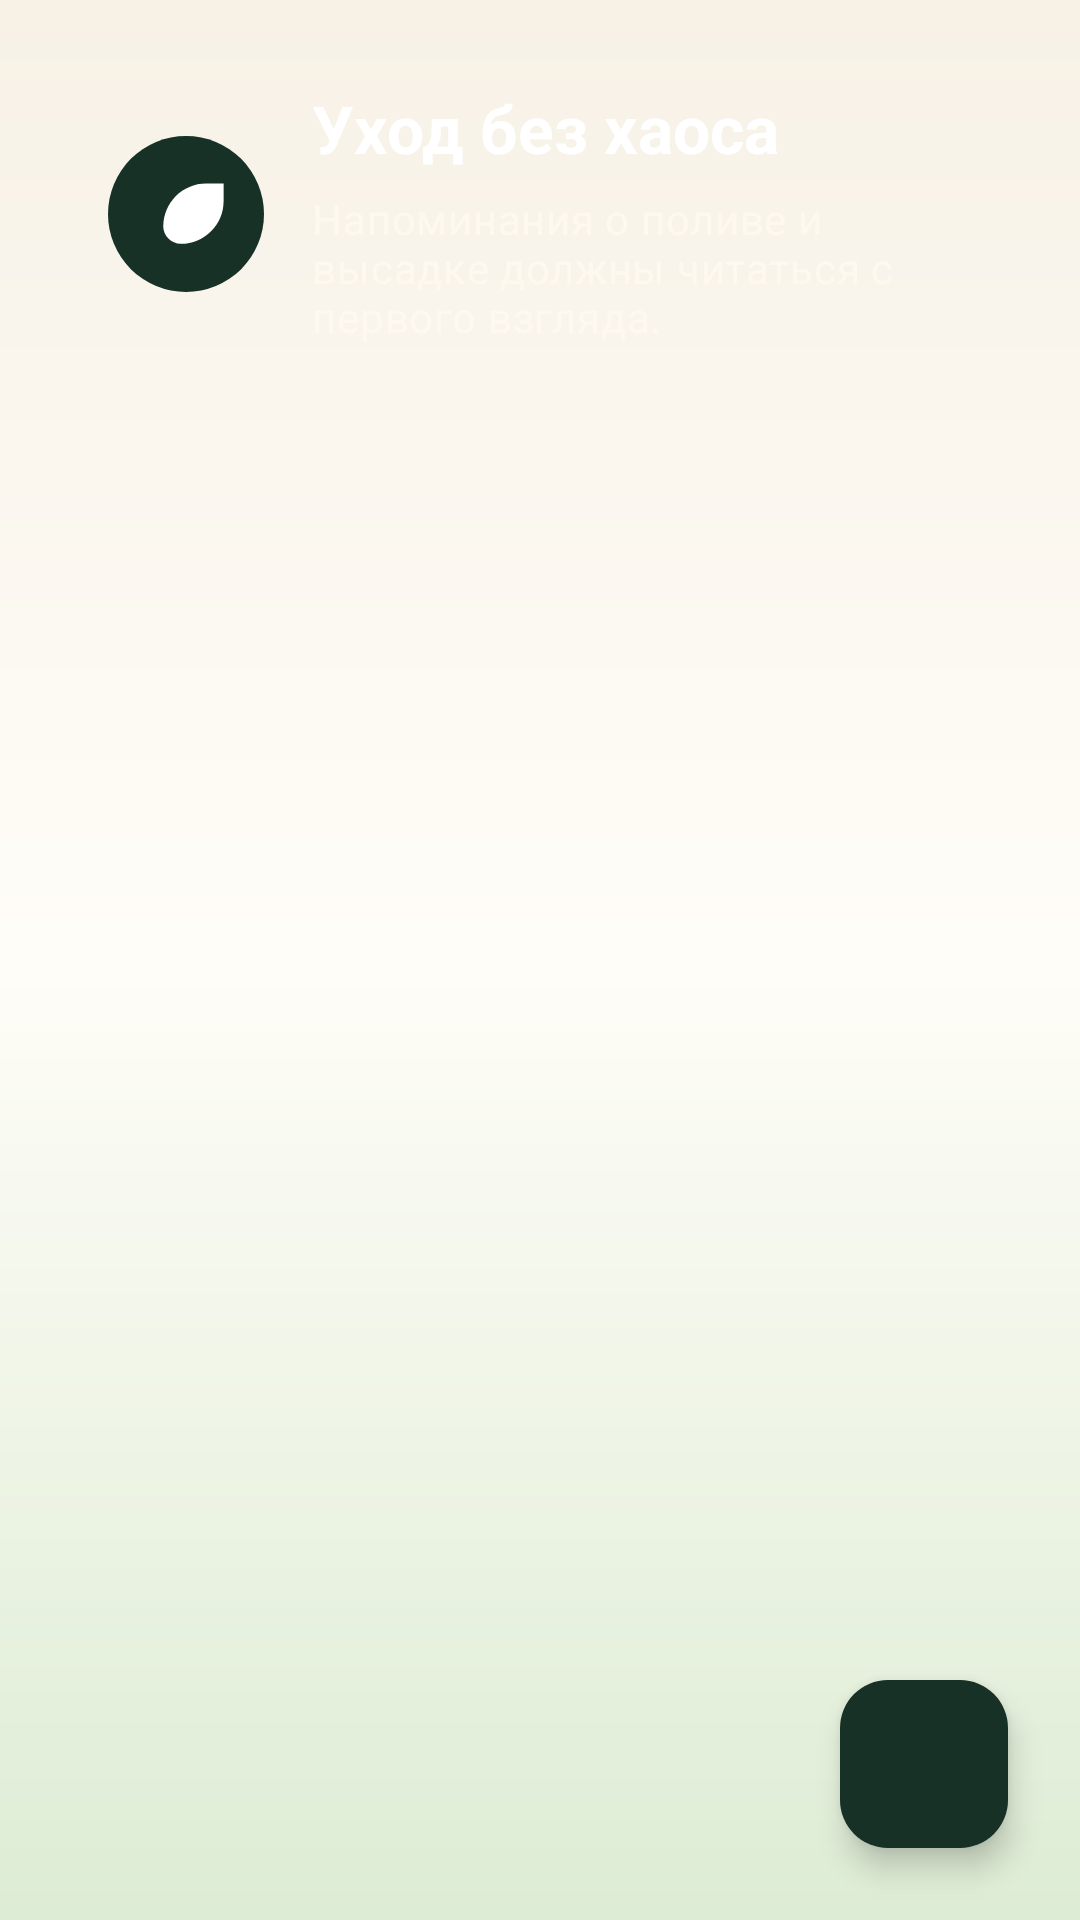

Where icons sit on this 1080*1920 app screen, as [x1=x1, y1=y1, x2=x2, y2=y2]:
plant leaf: [x1=108, y1=136, x2=264, y2=292]
